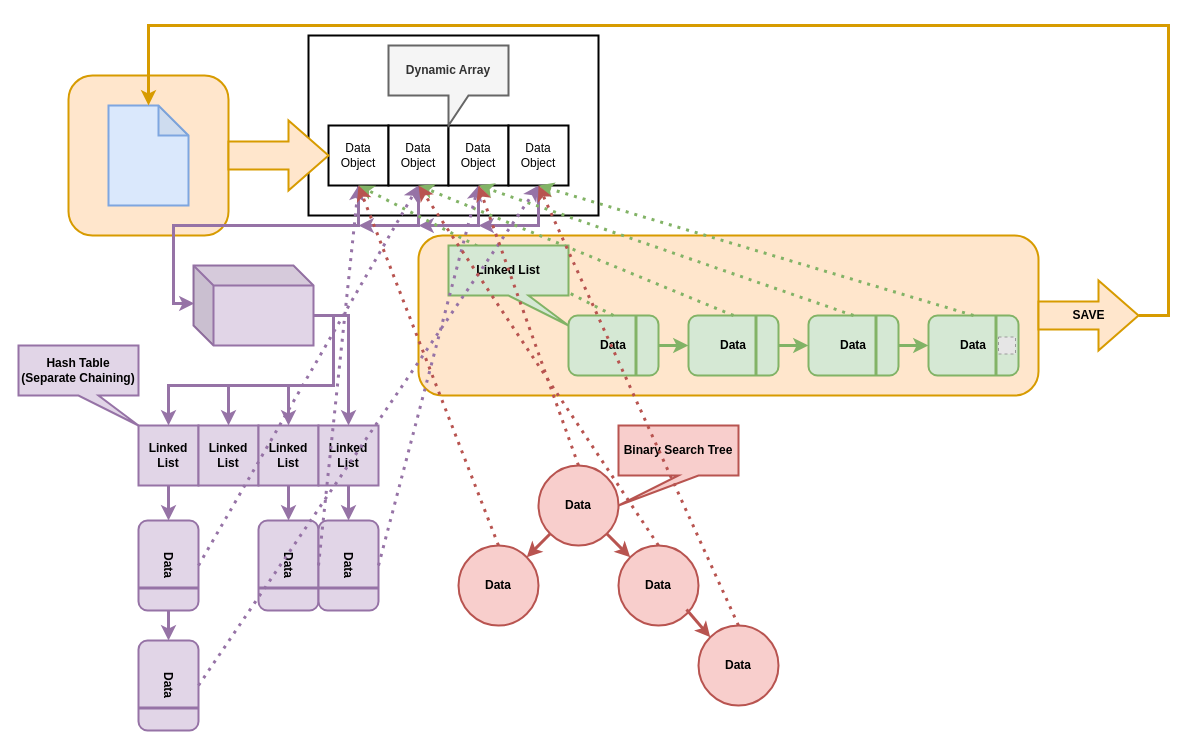
Some shapes in this 1195 by 749 pixel diagram are drawn without their labels. Grey dashed boxes stand in for pictures. Each missing label, with the box of its shape:
Data Record File: (107, 104, 189, 206)
Hash Function UID ~> Hash: (192, 264, 314, 346)
LOAD: (227, 119, 329, 191)
